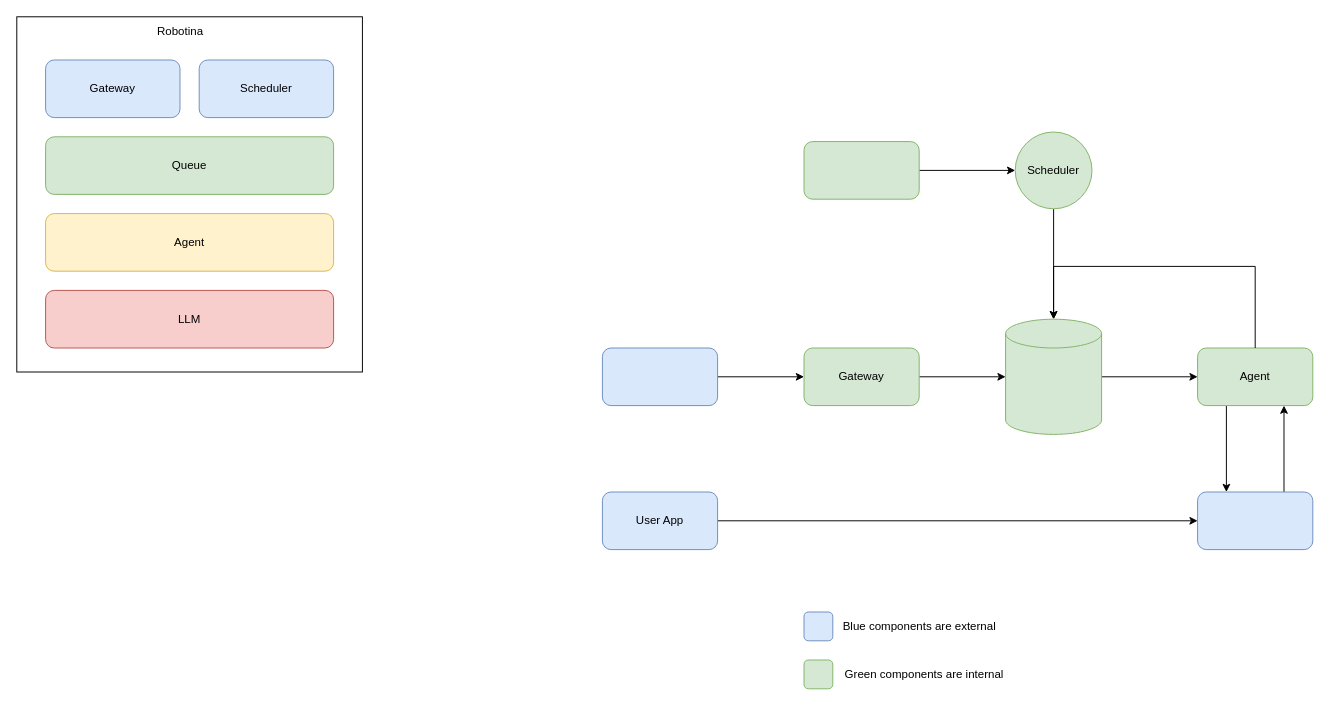
Image size: 1330x706. Some labels were removed from this diagram. The shapes that lost their labels are listed below. From the top down, each one's centre as x and y in pixels, then its label:
the point at 861,170: Scheduler API
the point at 659,376: Telegram
the point at 1053,376: agent-task-queue
the point at 1255,520: Household Manager
